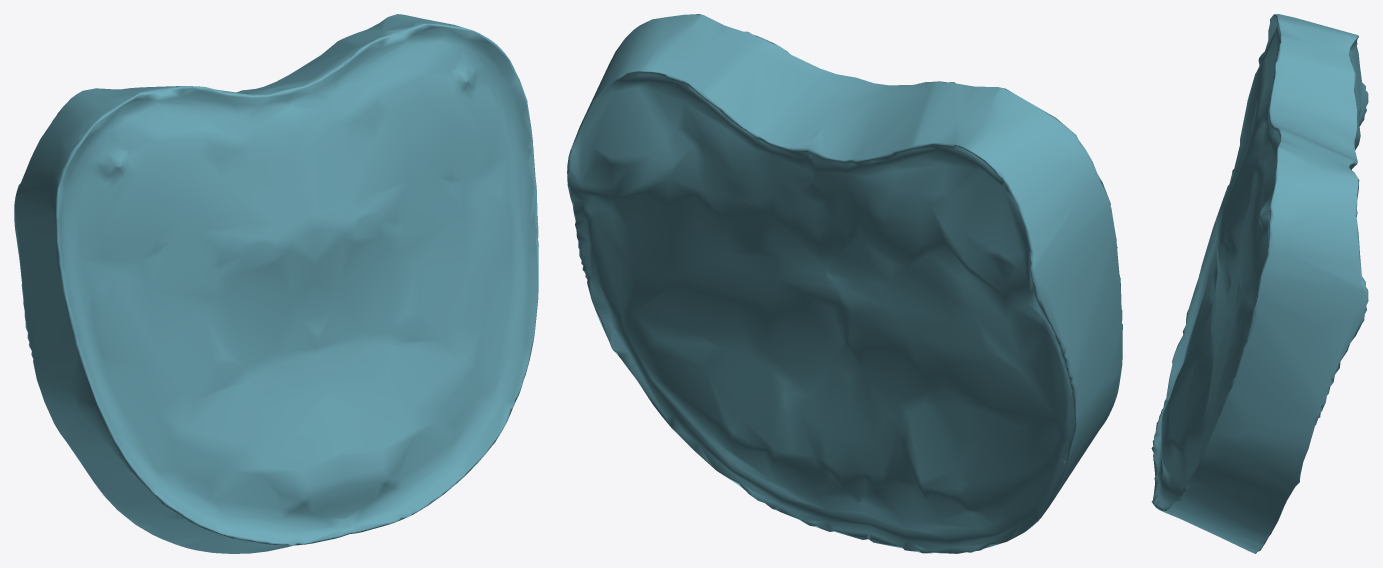
3 views of the same model, side by side, from view 1: azimuth 30°, elevation 25°; view 2: azimuth 150°, elevation 25°; view 3: azimuth 270°, elevation 25° (orthographic). The views are drawn at different scales.
Visible parts, largest first — view 1: 胸11—胸12椎间盘; view 2: 胸11—胸12椎间盘; view 3: 胸11—胸12椎间盘.
Boxes of the visible parts, box(x1,y1,x2,y2) form: 胸11—胸12椎间盘: box(14, 14, 538, 553); 胸11—胸12椎间盘: box(567, 14, 1122, 553); 胸11—胸12椎间盘: box(1151, 14, 1368, 553).
Size of the model in its own units: 0.0623 by 0.0594 by 0.0266.
